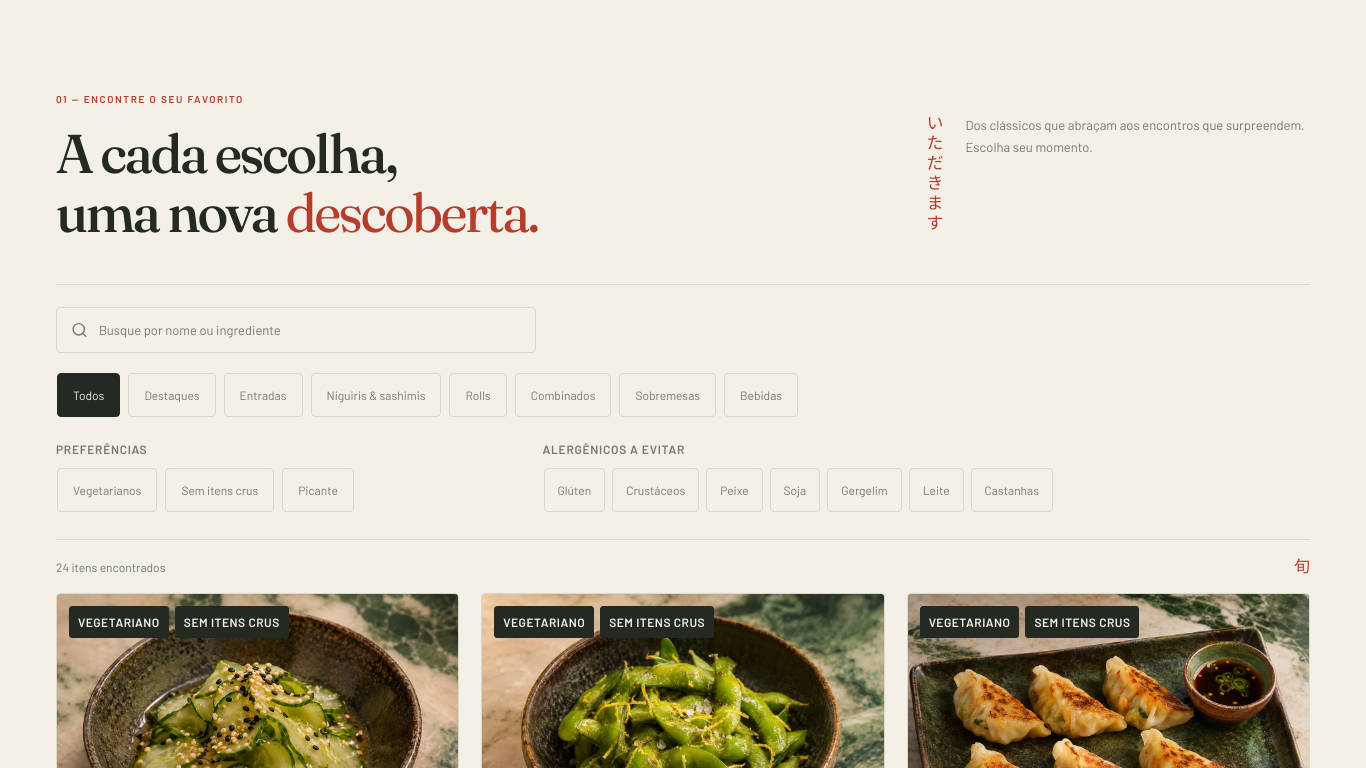
Test case: DigitalMenu › exclui os produtos que contêm o alergênico selecionado
This screenshot has width=1366, height=768.
Click the checkbox labelled "Peixe" at x=734, y=490, box 706,468 -> 762,512
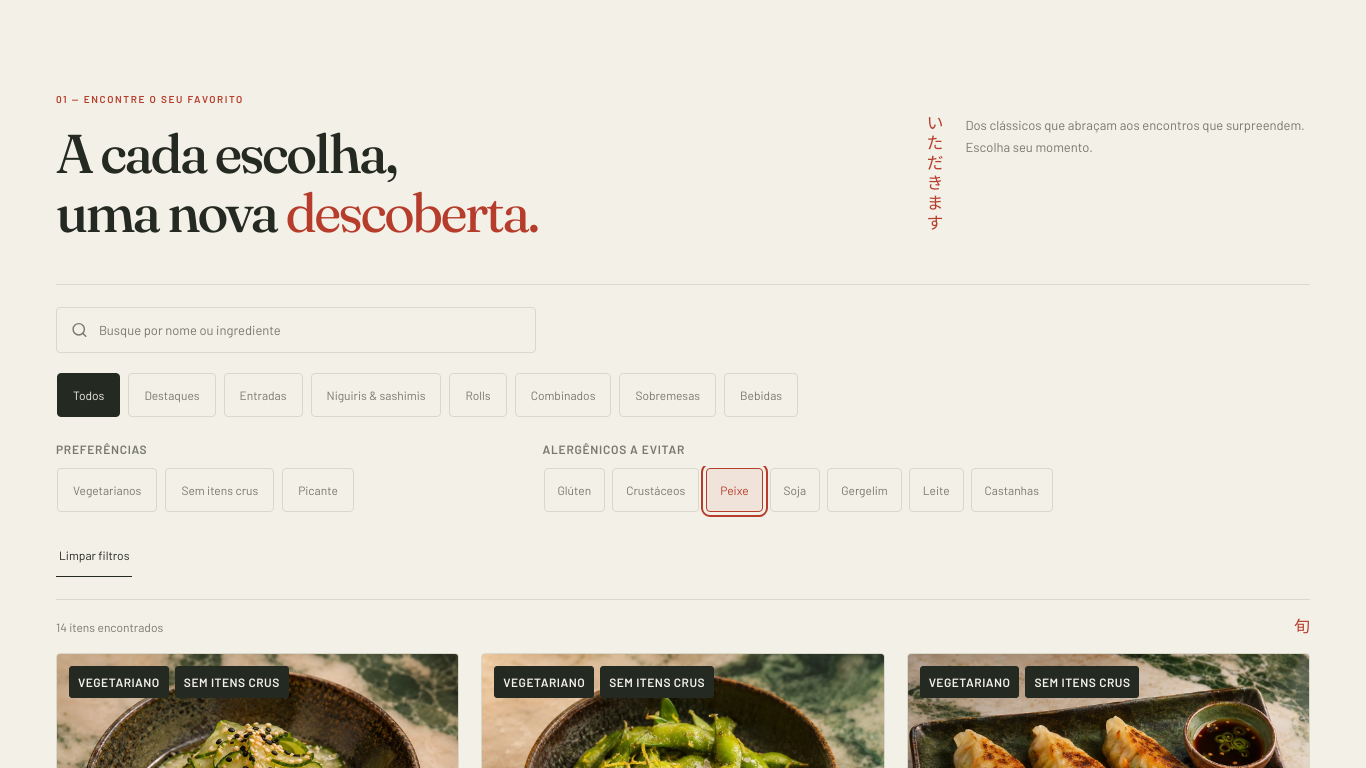
Expected: the message no longer shows "24 itens encontrados", 56,618 -> 163,636
